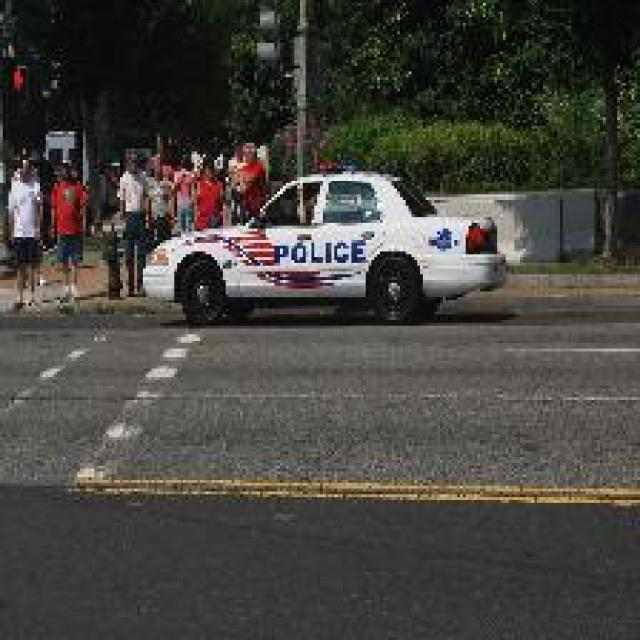emergency: (137, 162, 509, 326)
